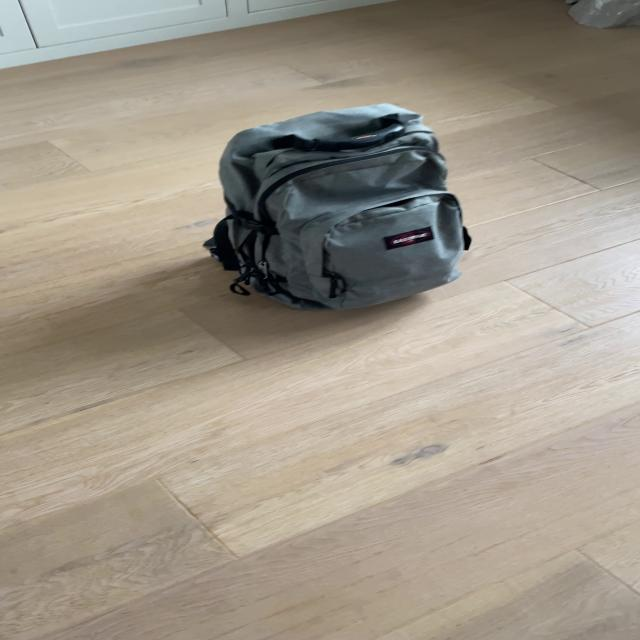backpack: (198, 94, 480, 317)
